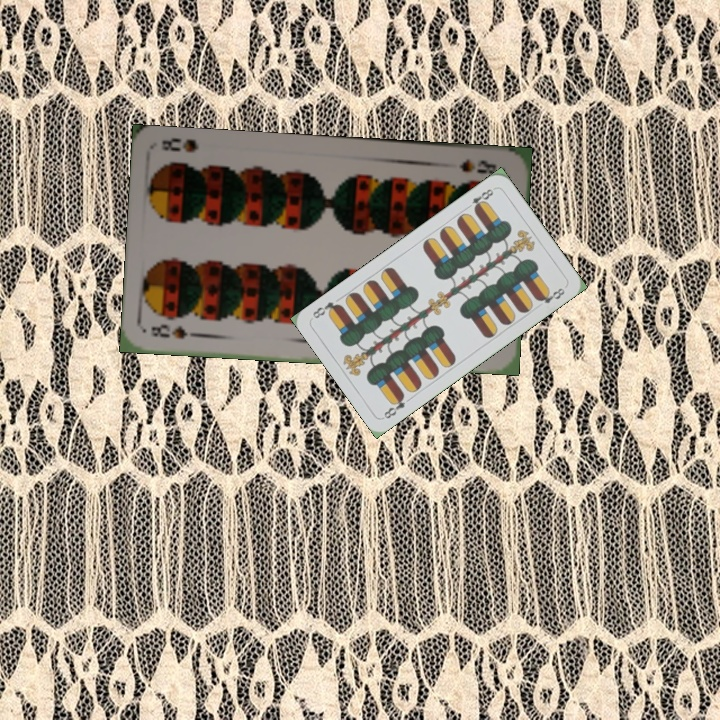E8: (462, 184, 497, 214), (380, 390, 408, 421)
S8: (147, 320, 204, 341), (456, 155, 499, 176)
